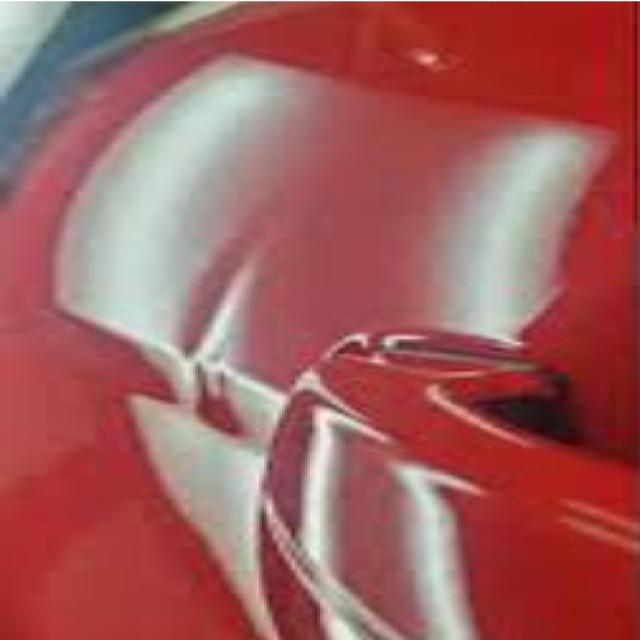dents: (378, 24, 527, 99)
